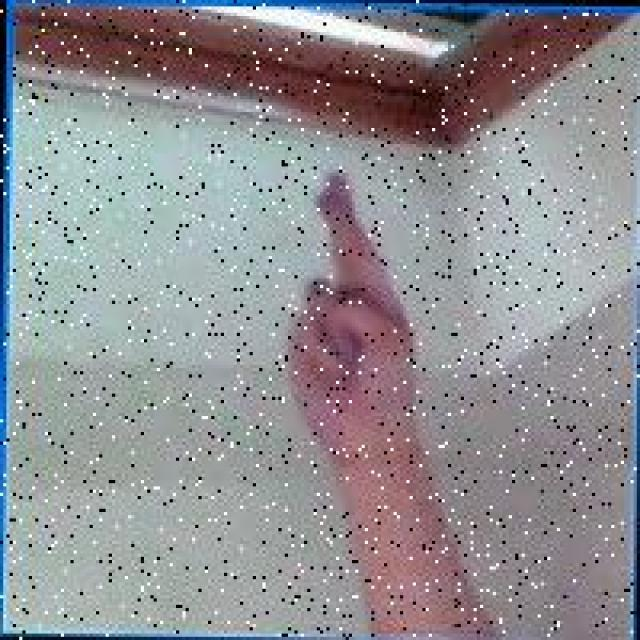R: (276, 165, 422, 469)
